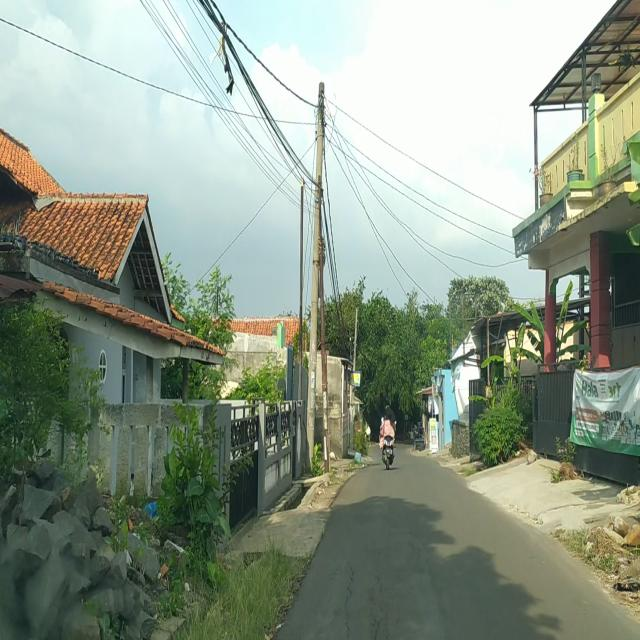Drain Hole: (339, 557, 395, 640)
